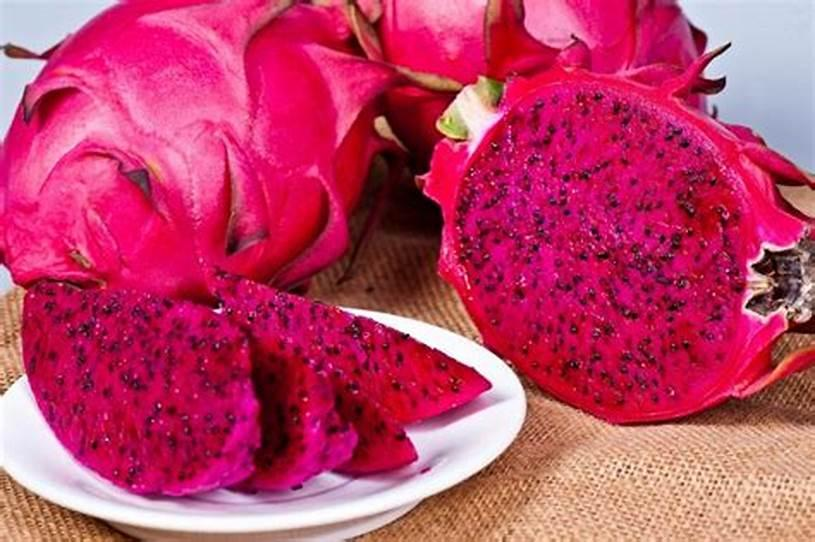dragon-fruit: (0, 0, 400, 279), (452, 88, 761, 408), (16, 271, 257, 500)
